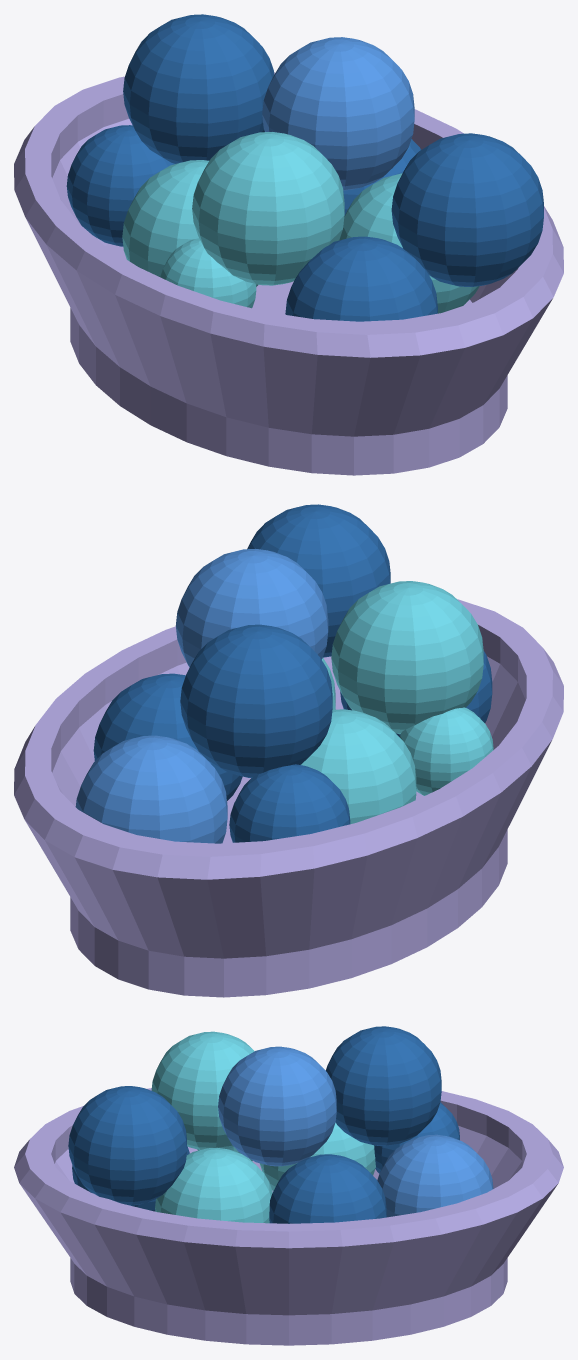
Rendered from detergentbasket_washingmachine.fbx.
3 renders of one model, top to bottom at view 1: azimuth 30°, elevation 25°; view 2: azimuth 150°, elevation 25°; view 3: azimuth 270°, elevation 25°, orthographic. The views are drawn at different scales.
Visible parts, largest first — view 1: Sphere.010; view 2: Sphere.010; view 3: Sphere.010.
Boxes of the visible parts, x1=… form: Sphere.010: x1=14, y1=14, x2=563, y2=475; Sphere.010: x1=14, y1=504, x2=563, y2=997; Sphere.010: x1=14, y1=1026, x2=563, y2=1345.
Bounding box in the file's own units: 85.88 × 60.88 × 124.
